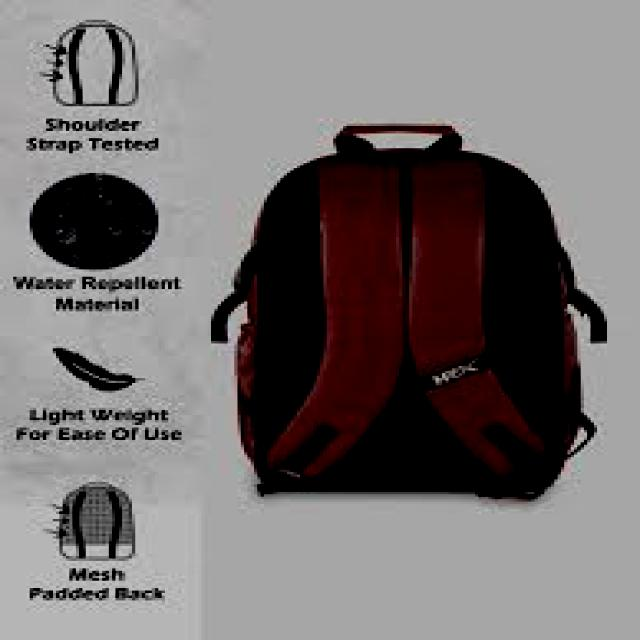backpack: (209, 122, 608, 500)
